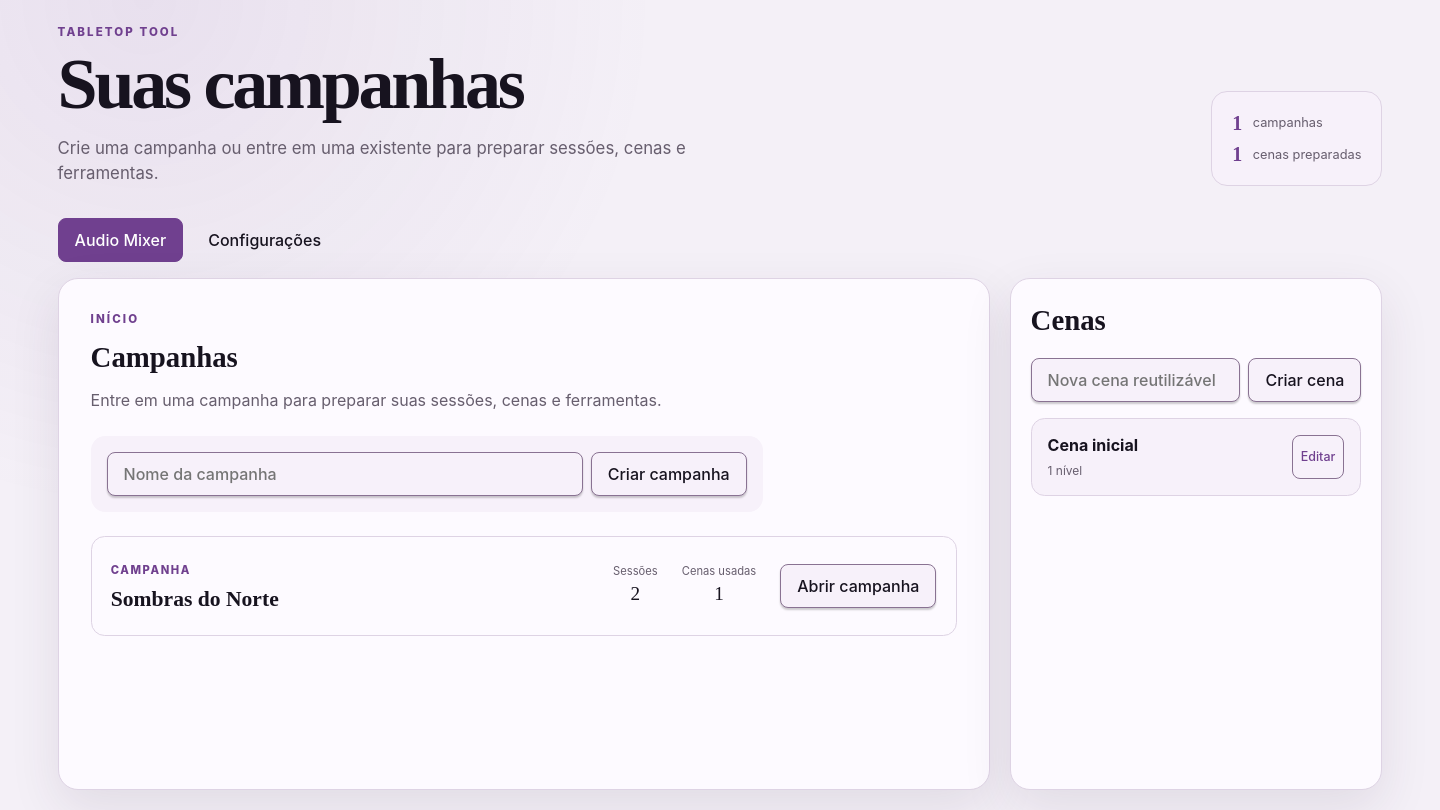
Test: Core workspace › renames and deletes an additional session
Click the button with aria-label "Abrir campanha Sombras do Norte": (858, 586) x1=780 y1=564 x2=936 y2=608
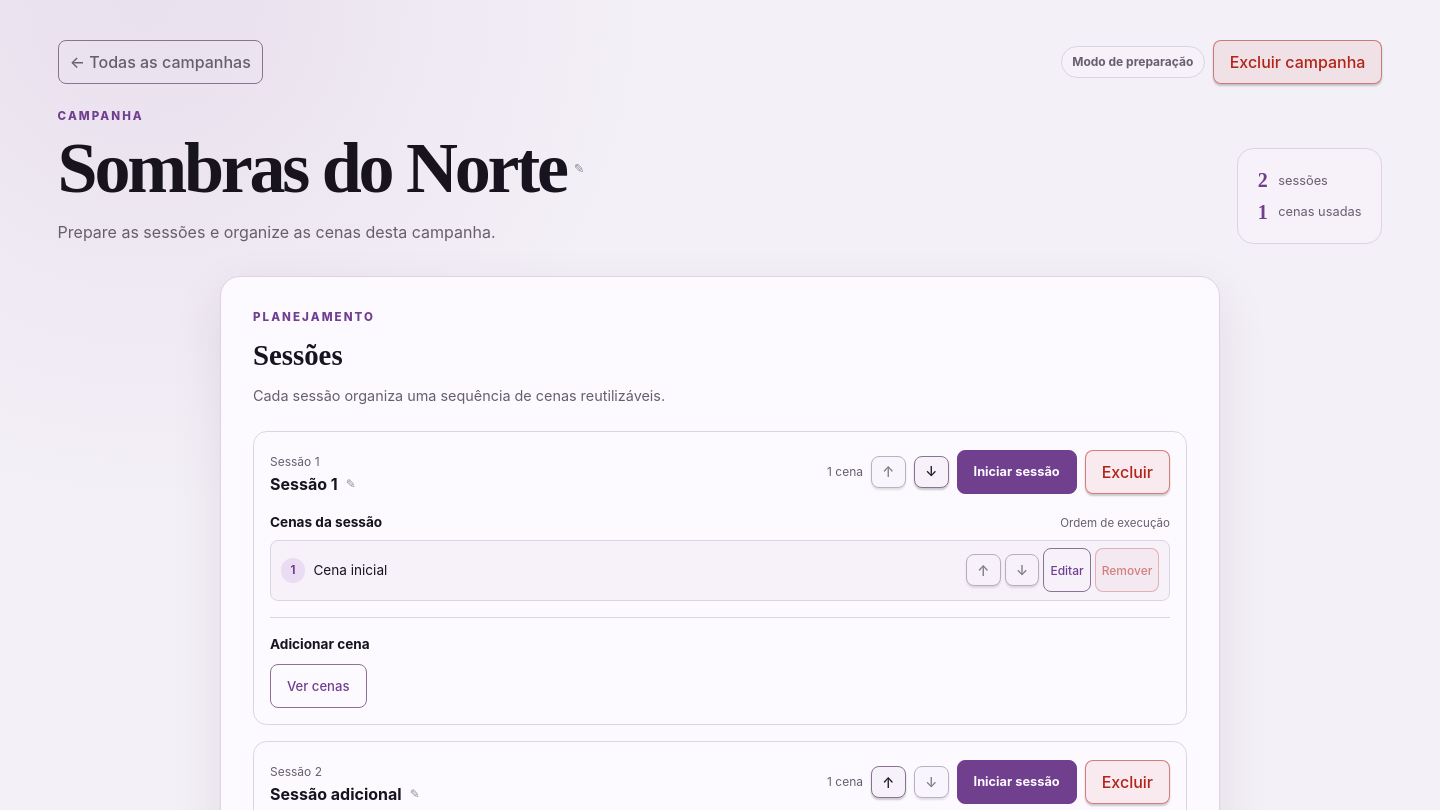
Double-click the heading "Sessão adicional": (336, 794) x1=270 y1=782 x2=402 y2=806
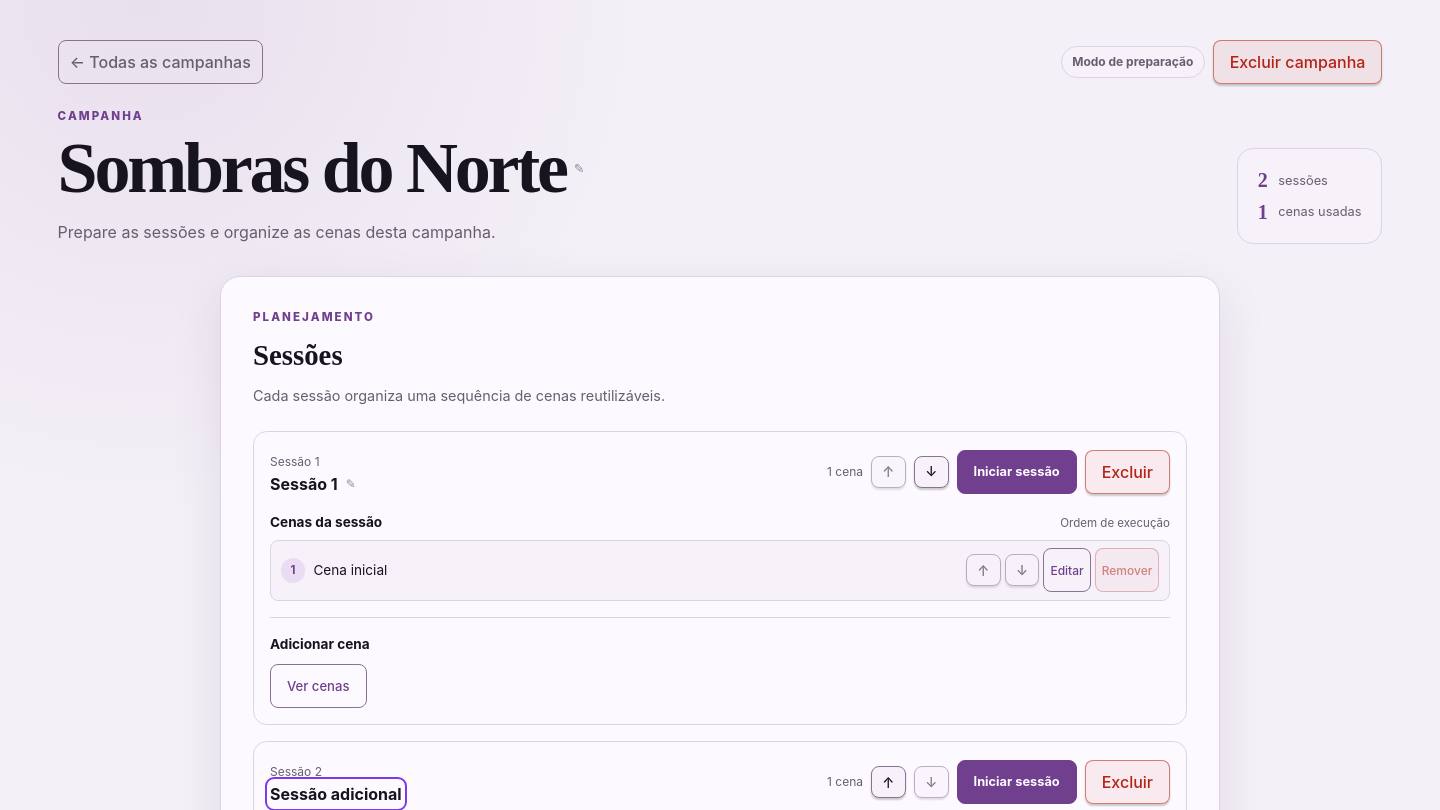
Clear the field named "Novo nome da sessão Sessão adicional": (336, 794) x1=270 y1=782 x2=402 y2=806
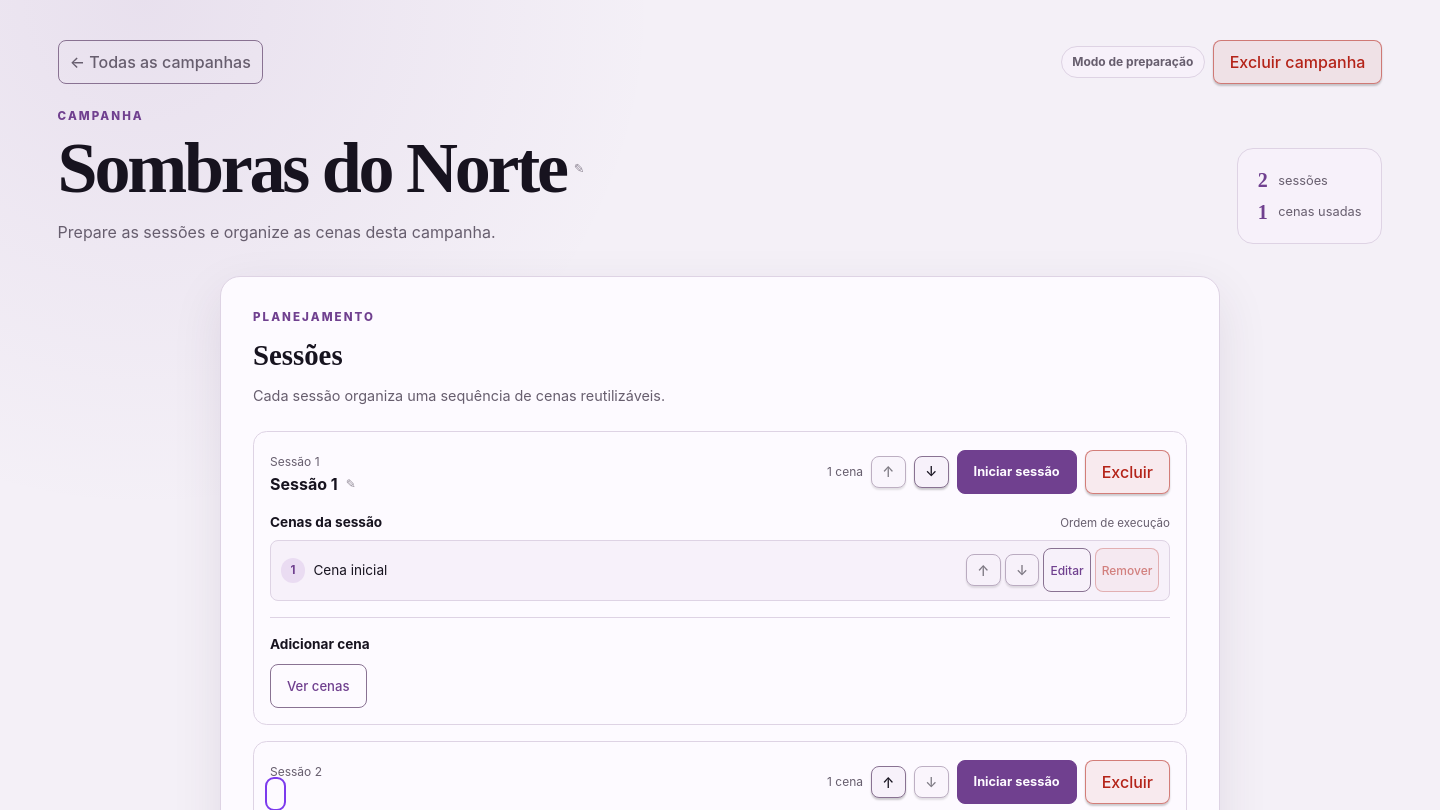
In the field named "Novo nome da sessão Sessão adicional": (275, 794) x1=270 y1=782 x2=281 y2=806, type "Sessão final"
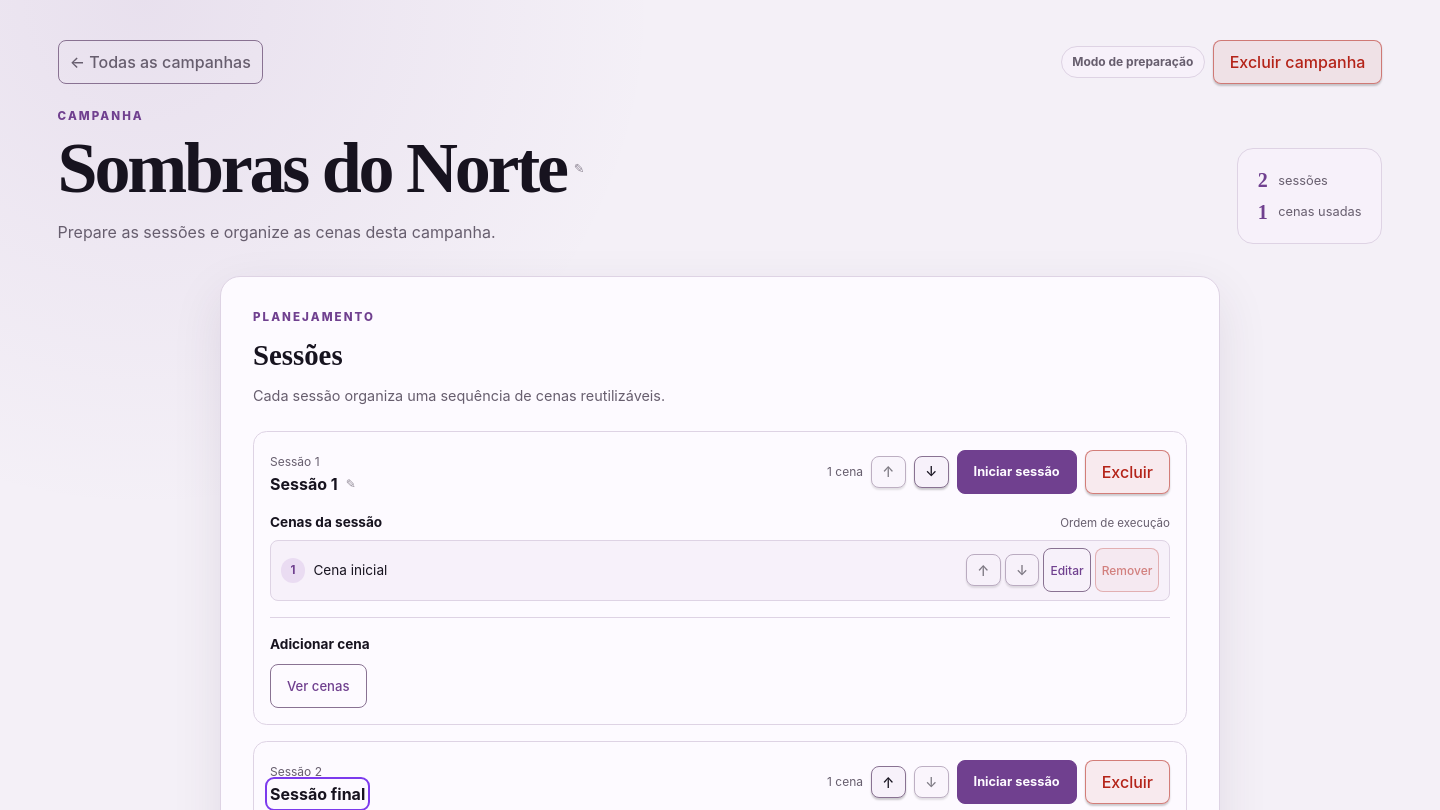
Press Enter
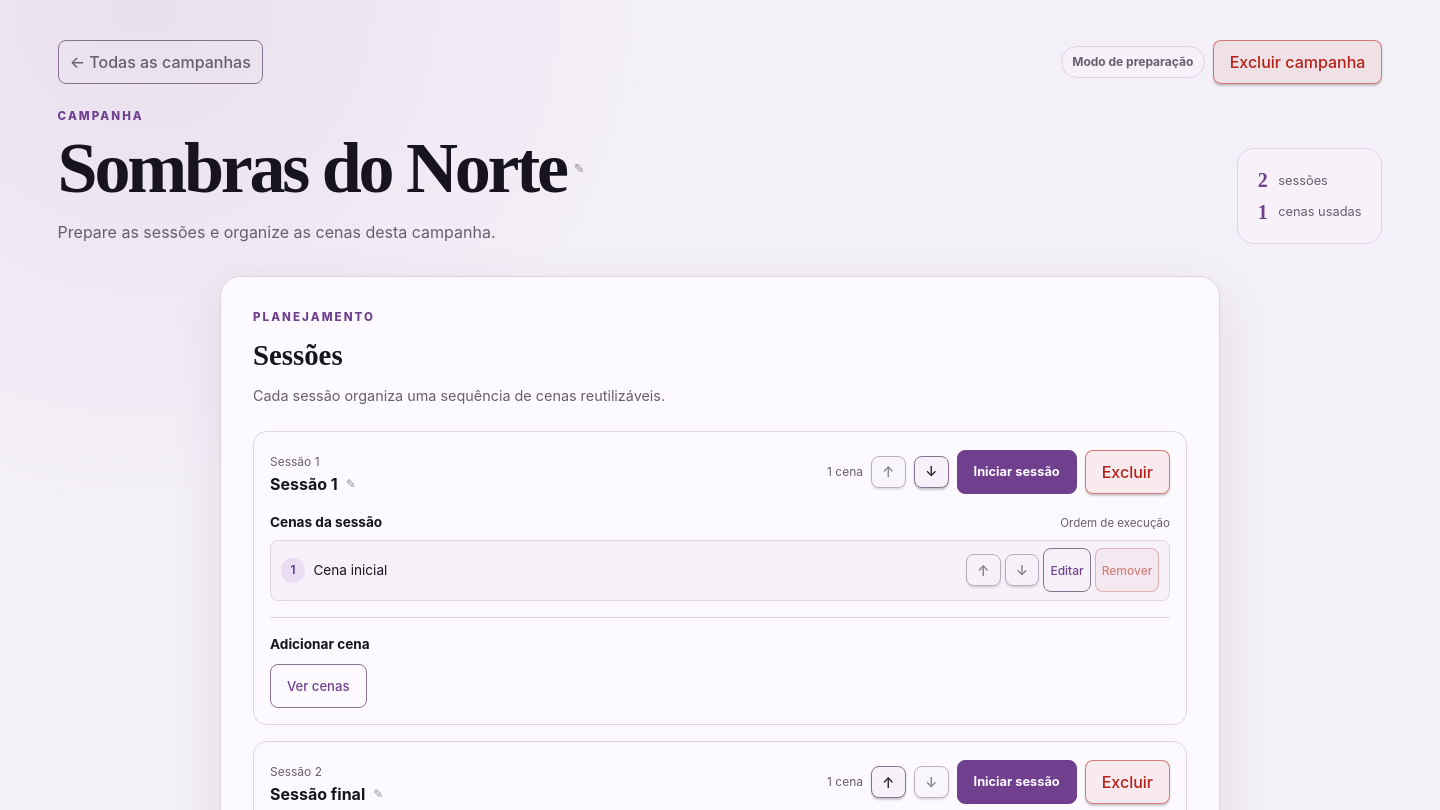
Click the button with aria-label "Excluir sessão Sessão final": (1127, 782) x1=1085 y1=760 x2=1170 y2=804
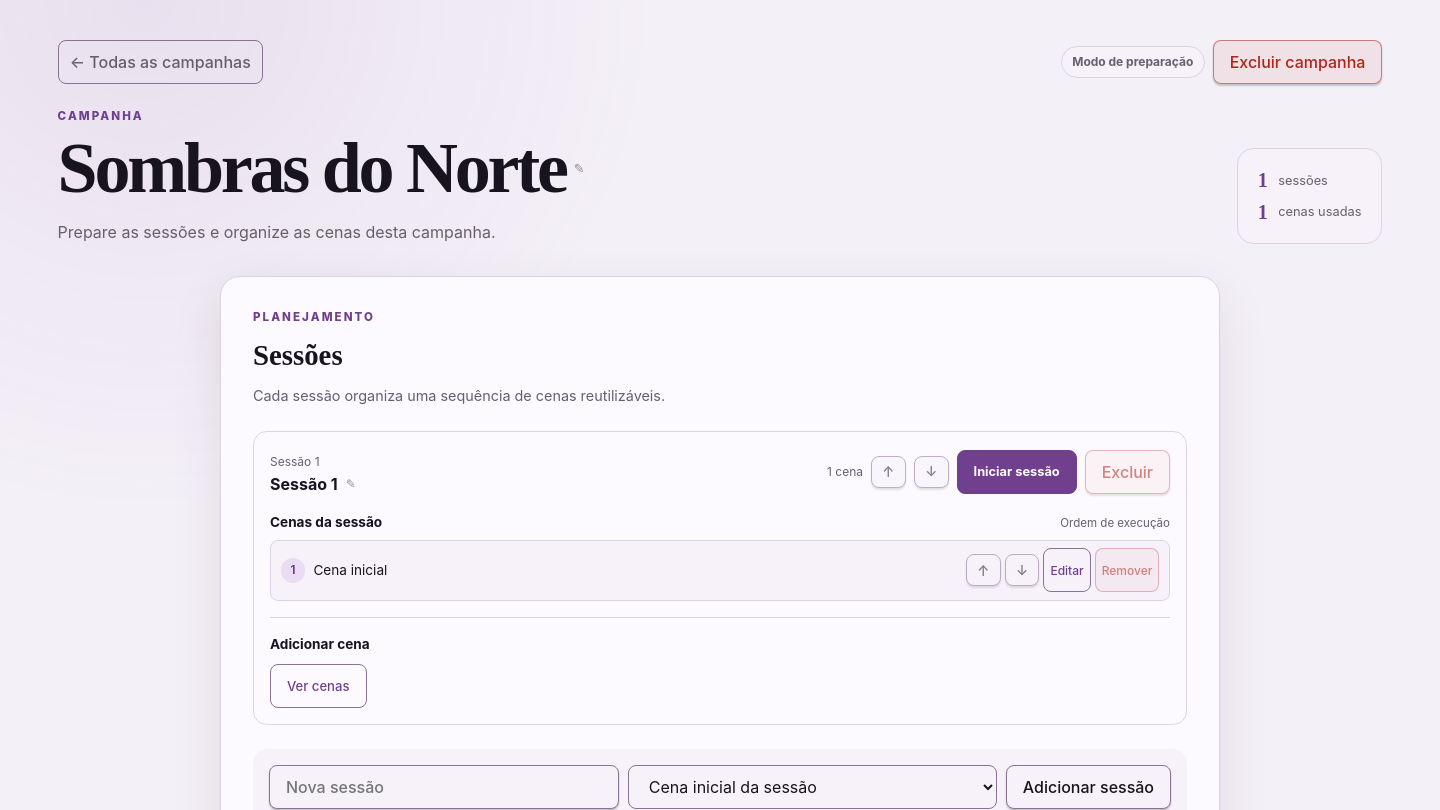
Expected: the heading "Sessão 1" is shown, x1=270 y1=472 x2=338 y2=496
Expected: the heading "Sessão final" is gone
